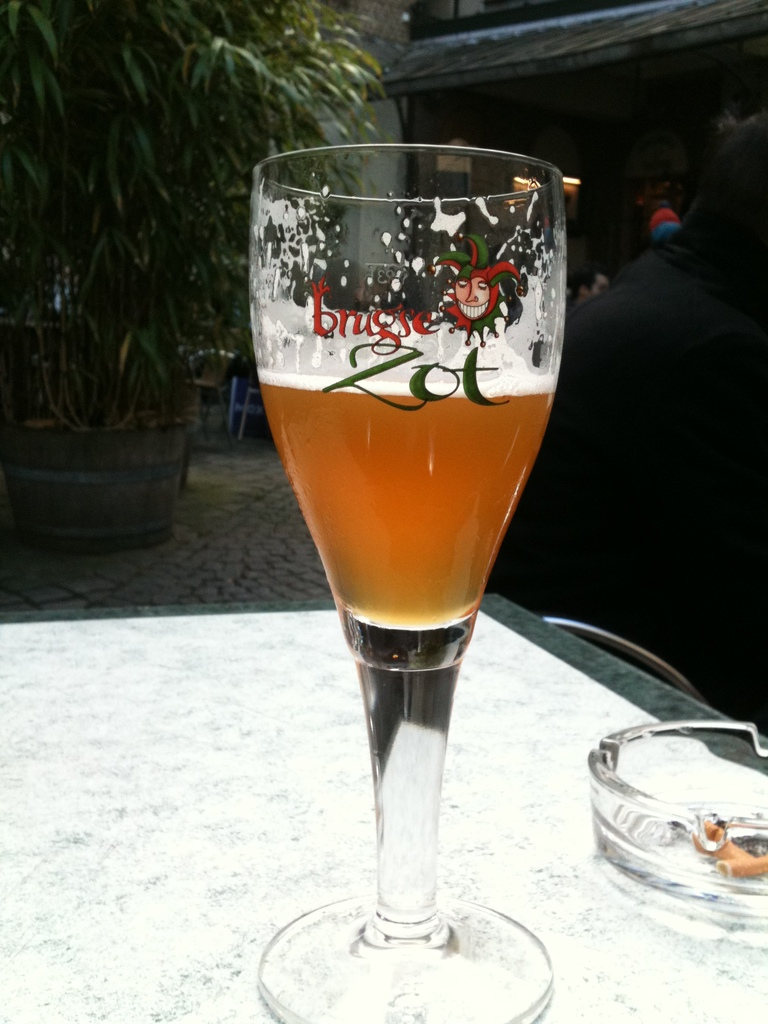Beer: (264, 369, 556, 638)
